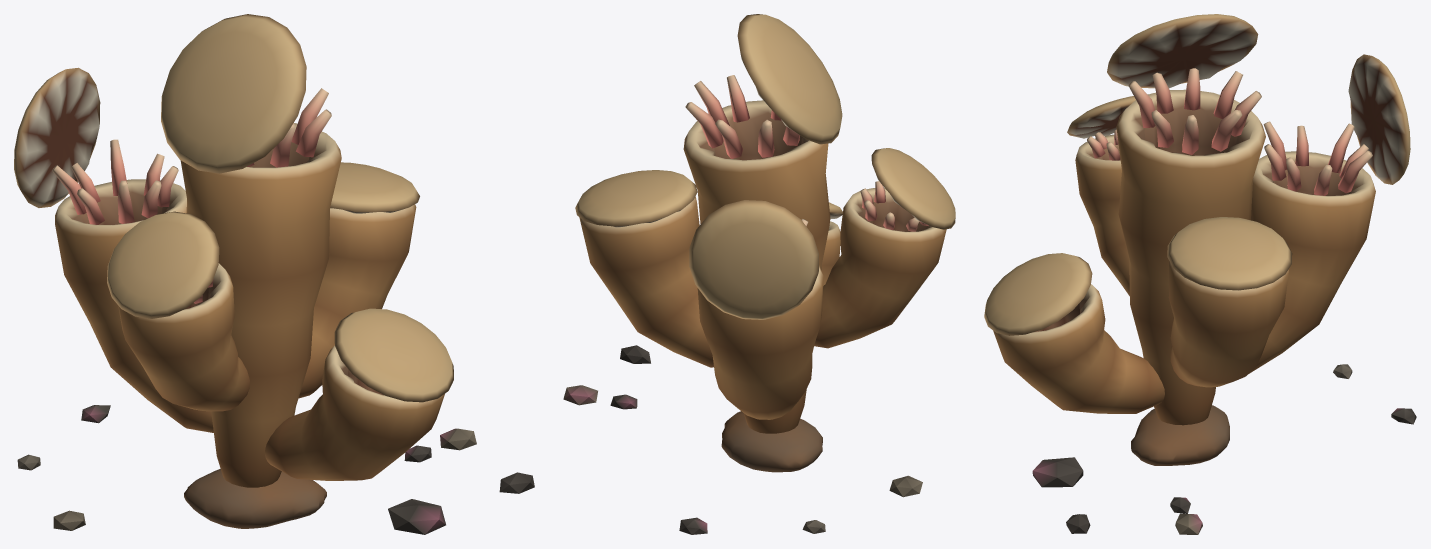
Rendered from Cothonion.fbx.
3 views of the same model, side by side, from view 1: azimuth 30°, elevation 25°; view 2: azimuth 150°, elevation 25°; view 3: azimuth 270°, elevation 25° (orthographic). The views are drawn at different scales.
Visible parts, largest first — view 1: Cothonion; view 2: Cothonion; view 3: Cothonion.
Boxes of the visible parts, x1,y1,x2,y2 form: Cothonion: (14,14,534,534); Cothonion: (563,14,955,534); Cothonion: (984,14,1416,534).
Size of the model in its own units: 1.2 by 1.38 by 1.21.
